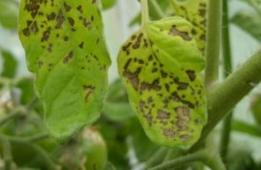Tomato leaf bacterial spot: (0, 0, 116, 149), (111, 17, 209, 159)
